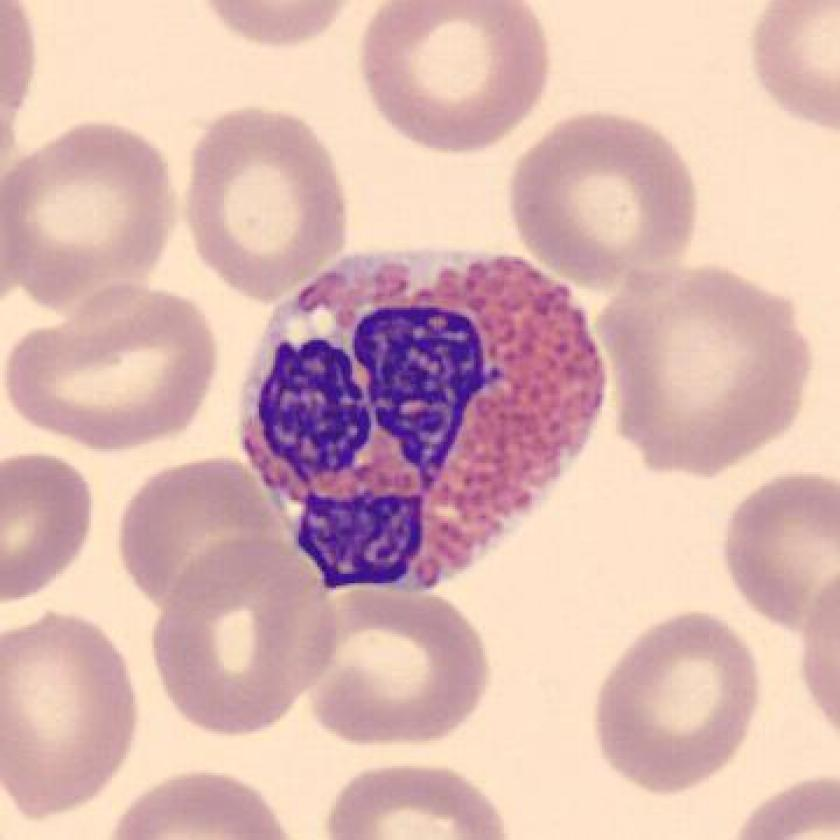eosinophil: (227, 230, 622, 603)
